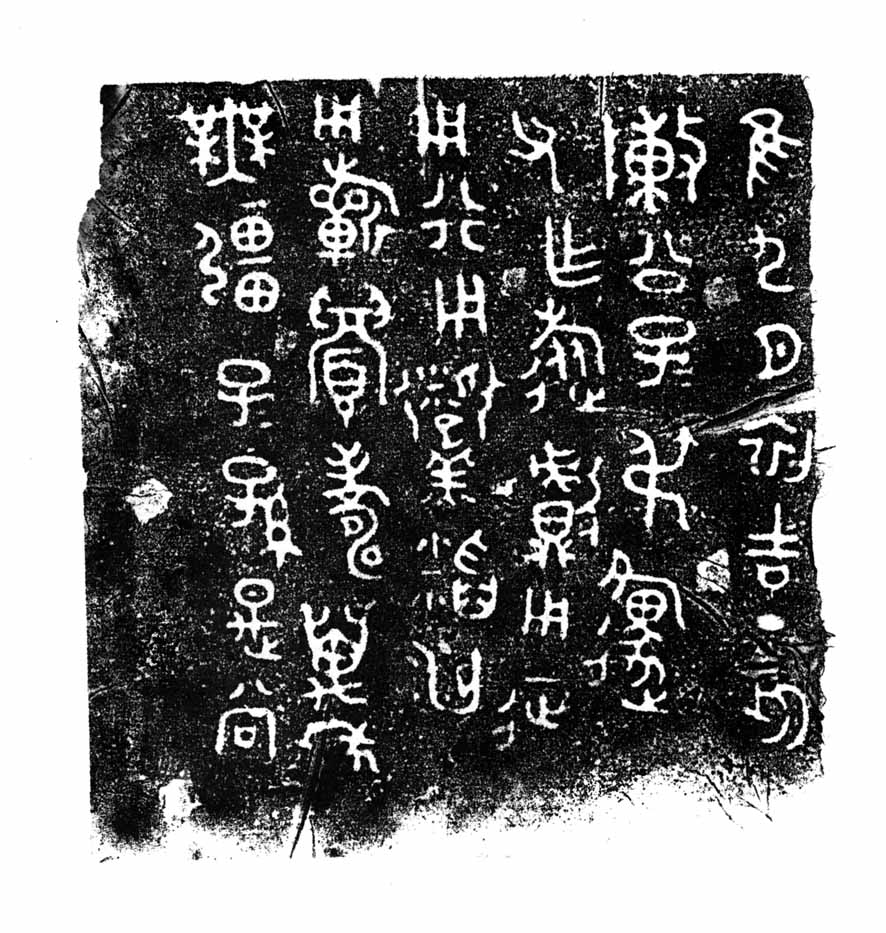char: (291, 440, 408, 607), (601, 553, 694, 752), (387, 354, 496, 515), (178, 199, 311, 325), (506, 432, 622, 574), (593, 105, 730, 224), (382, 626, 505, 745), (722, 498, 843, 616), (183, 448, 316, 551), (510, 297, 611, 432), (301, 281, 393, 428), (292, 153, 402, 274), (150, 87, 294, 179), (725, 651, 830, 777), (614, 407, 704, 548), (277, 601, 382, 720), (286, 705, 395, 815), (478, 105, 603, 199), (727, 87, 813, 213), (714, 395, 836, 483), (410, 528, 511, 622), (609, 226, 720, 301), (412, 175, 511, 254), (734, 307, 838, 382), (214, 579, 306, 662), (725, 219, 825, 294), (523, 218, 619, 296), (486, 667, 573, 750), (199, 684, 286, 767), (393, 83, 493, 155), (617, 317, 709, 389), (203, 357, 286, 433), (415, 279, 505, 349), (287, 85, 375, 145), (513, 588, 589, 649)
